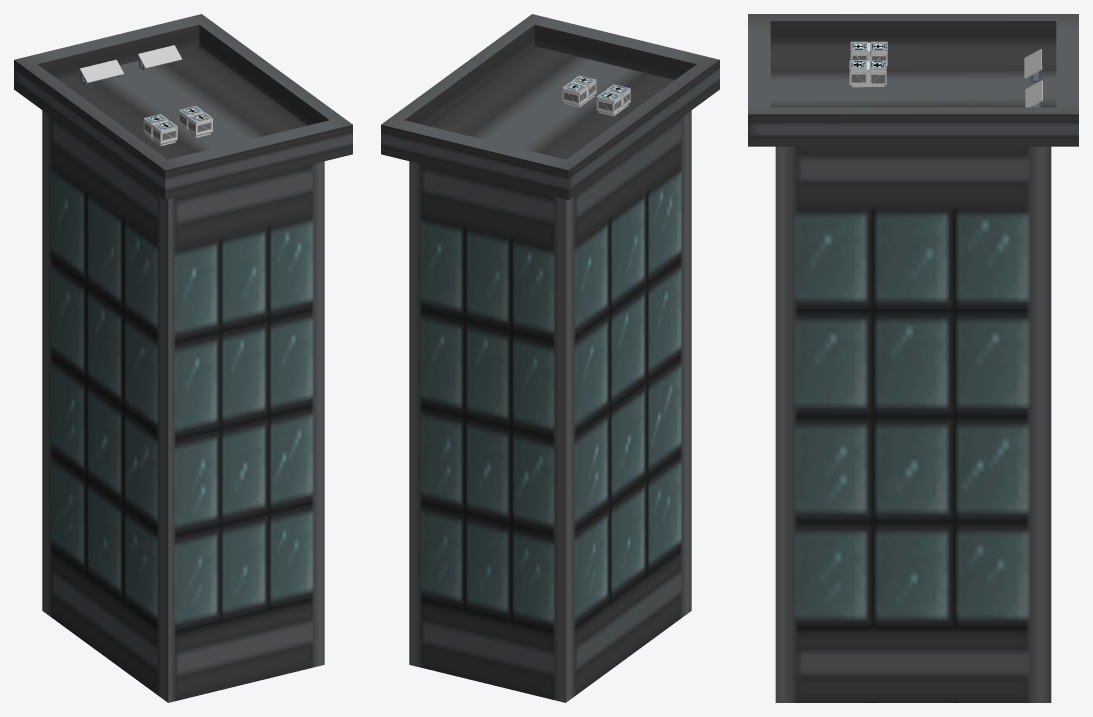
File: BGN_BUS OFFICE.fbx
3 renders of one model, left to right at view 1: azimuth 30°, elevation 25°; view 2: azimuth 150°, elevation 25°; view 3: azimuth 270°, elevation 25°, orthographic. The views are drawn at different scales.
Parts seen in each view (by area): view 1: BGN_BUS OFFICE, BLOCKYGON_ROOF AC (9), BLOCKYGON_ROOF AC (3), BLOCKYGON_SOLAR PANE (2), BLOCKYGON_SOLAR PANE (3); view 2: BGN_BUS OFFICE, BLOCKYGON_ROOF AC (3), BLOCKYGON_ROOF AC (9); view 3: BGN_BUS OFFICE, BLOCKYGON_ROOF AC (3), BLOCKYGON_ROOF AC (9).
Part boxes in pixels (<box>): BGN_BUS OFFICE: <box>14,14,352,702</box>; BLOCKYGON_ROOF AC (9): <box>143,114,177,145</box>; BLOCKYGON_ROOF AC (3): <box>179,106,212,137</box>; BLOCKYGON_SOLAR PANE (2): <box>79,59,124,84</box>; BLOCKYGON_SOLAR PANE (3): <box>137,45,182,70</box>; BGN_BUS OFFICE: <box>381,14,719,702</box>; BLOCKYGON_ROOF AC (3): <box>562,75,596,107</box>; BLOCKYGON_ROOF AC (9): <box>596,84,630,116</box>; BGN_BUS OFFICE: <box>748,14,1078,702</box>; BLOCKYGON_ROOF AC (3): <box>849,60,886,87</box>; BLOCKYGON_ROOF AC (9): <box>850,41,887,66</box>.
Size of the model in its own units: 1406 by 3904 by 1961.
